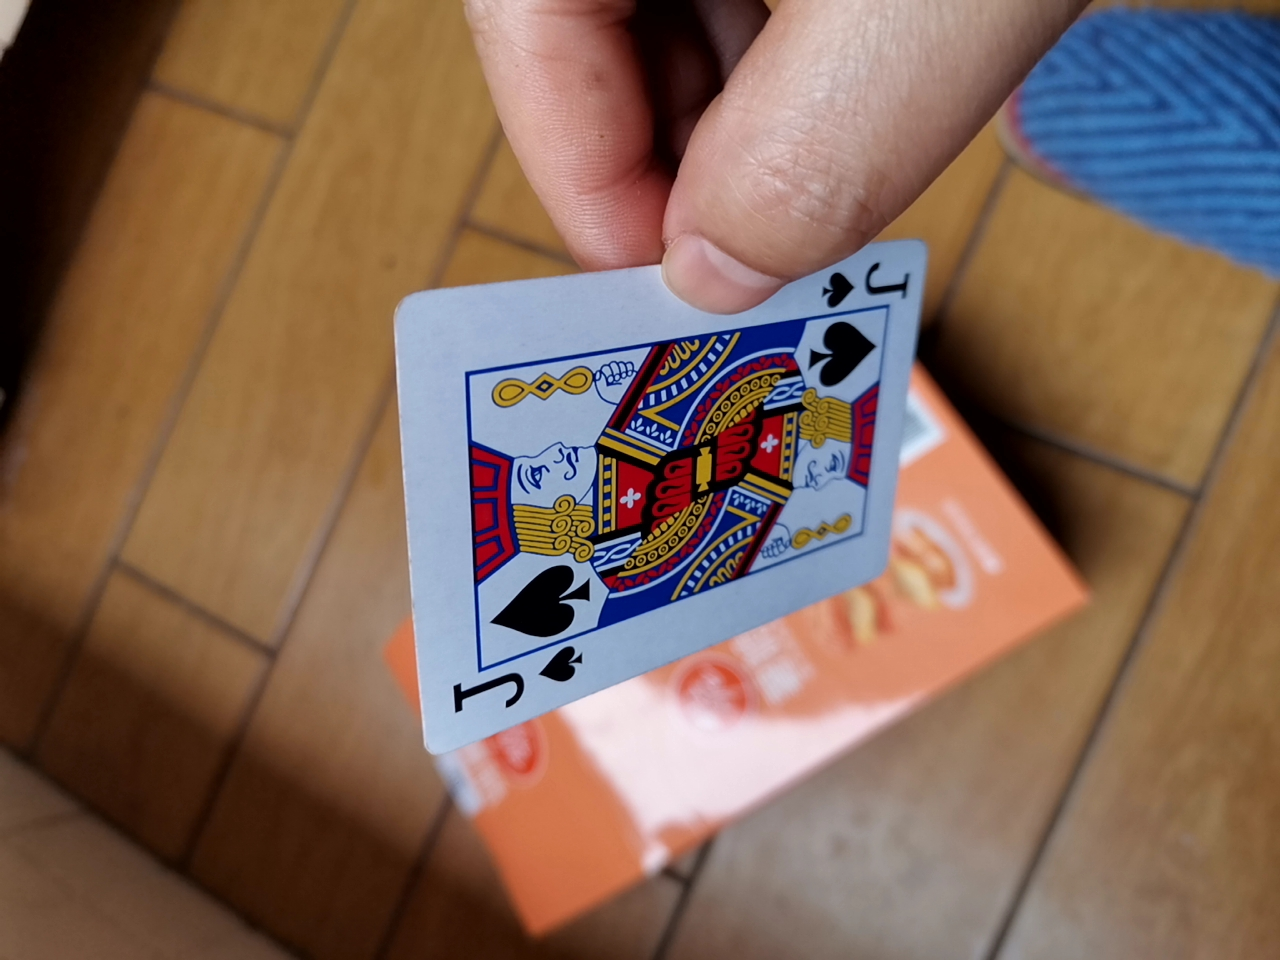ht j: (377, 243, 951, 818)
